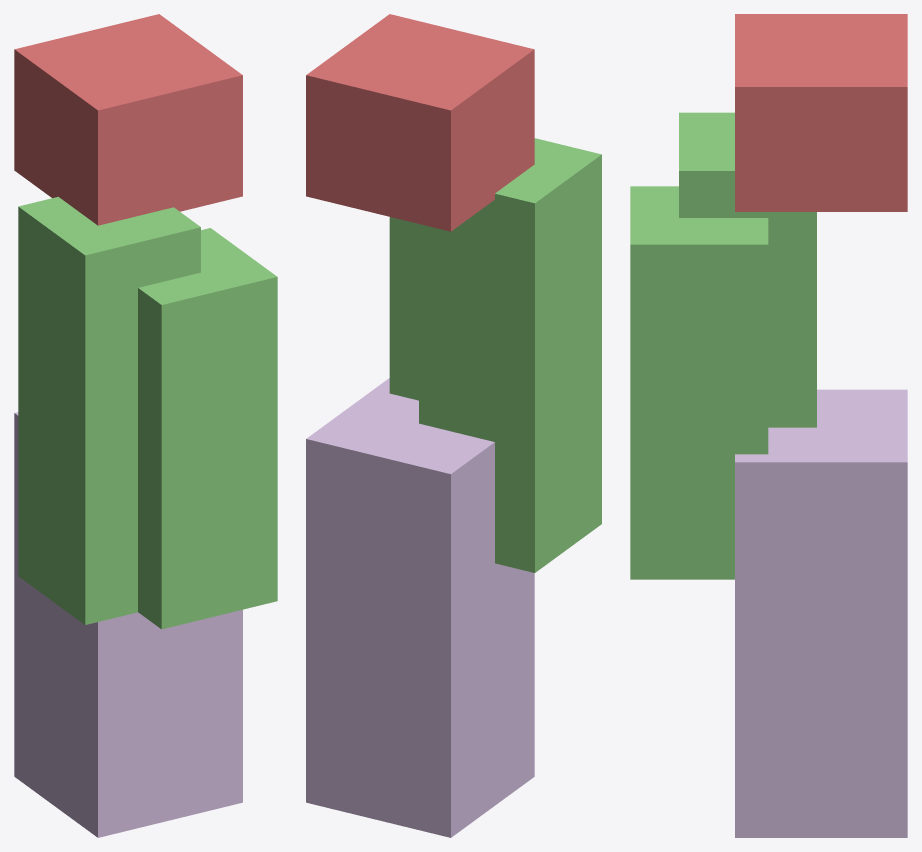
The model's file is Item_Herb_AMF_Guardthistle_Bundle1.glb.
The picture shows the model from 3 angles, left to right: view 1: azimuth 30°, elevation 25°; view 2: azimuth 150°, elevation 25°; view 3: azimuth 270°, elevation 25°; orthographic projection. The views are drawn at different scales.
Visible parts, largest first — view 1: Item_Herb_AMF_Guardthistle_Bundle1; view 2: Item_Herb_AMF_Guardthistle_Bundle1; view 3: Item_Herb_AMF_Guardthistle_Bundle1.
Part boxes in pixels (box(x1,y1,x2,y2)): Item_Herb_AMF_Guardthistle_Bundle1: box(14, 14, 277, 837); Item_Herb_AMF_Guardthistle_Bundle1: box(306, 14, 601, 837); Item_Herb_AMF_Guardthistle_Bundle1: box(630, 14, 907, 837).
Size of the model in its own units: 0.0638 by 0.24 by 0.0803.
